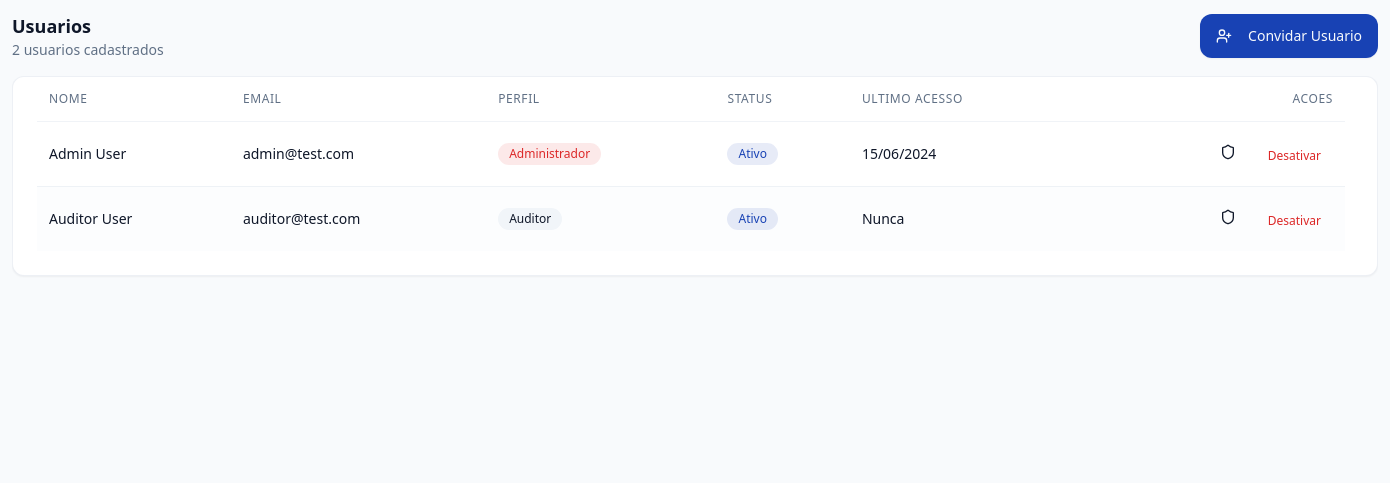
UserManagement › shows invite form when button clicked
Click the button "Convidar Usuario". click: (1289, 36)
box: top-left (1200, 14), bottom-right (1378, 58)
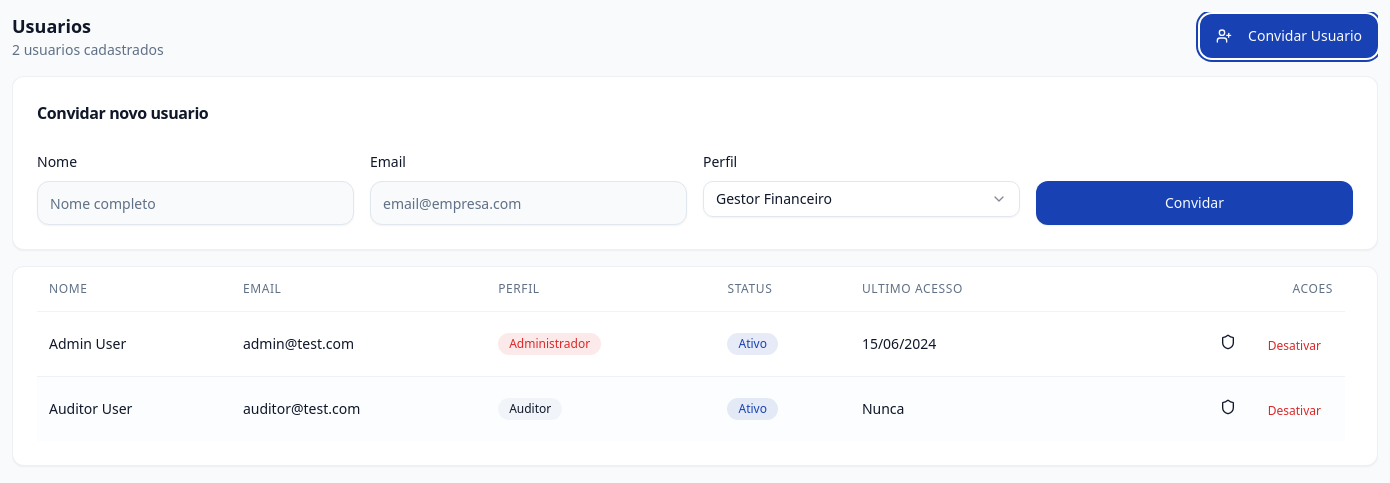
Now the field labelled "Nome" is shown, box top-left (37, 181), bottom-right (354, 225)
Now the field labelled "Email" is shown, box top-left (370, 181), bottom-right (687, 225)
